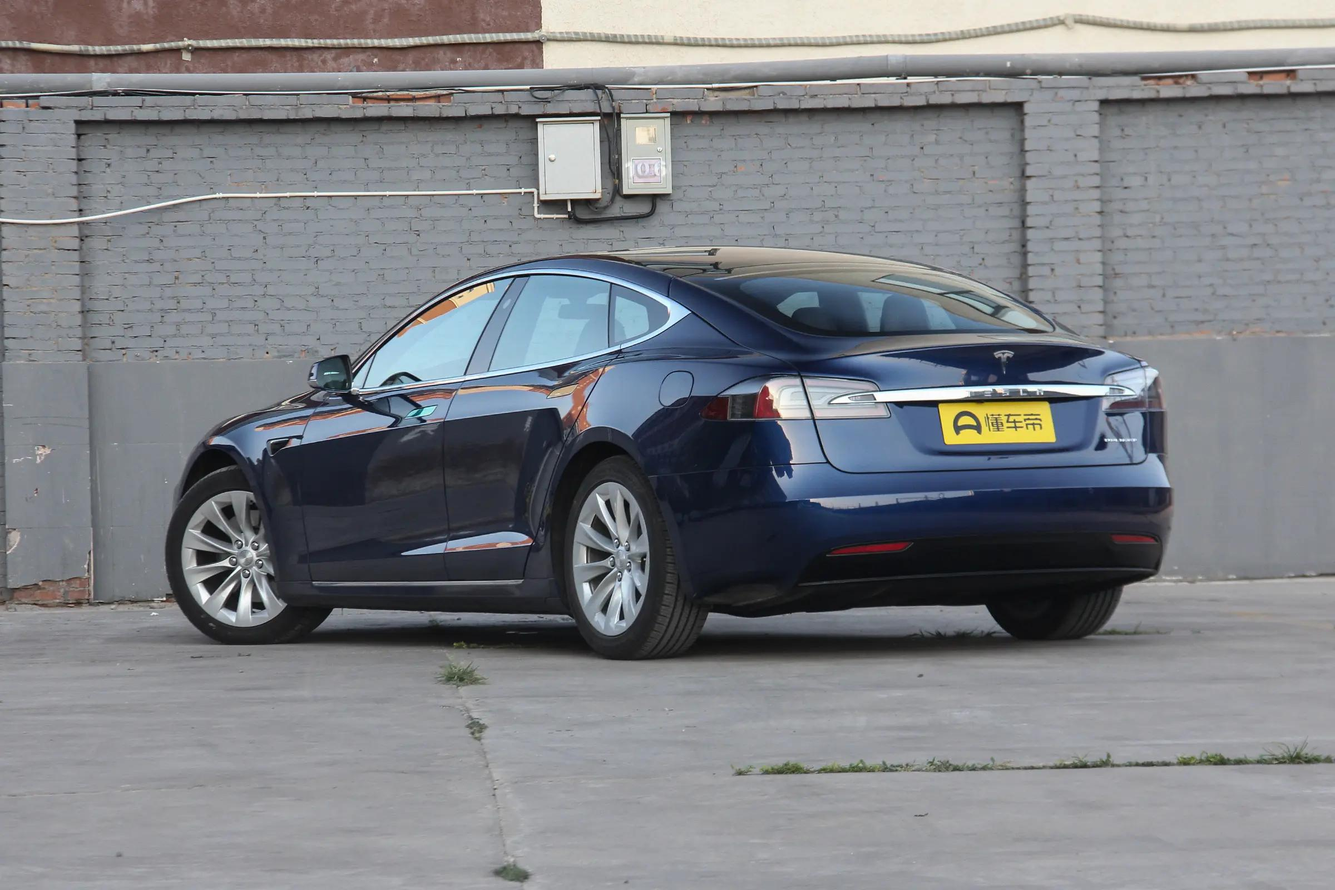Tesla: (994, 350, 1015, 375)
